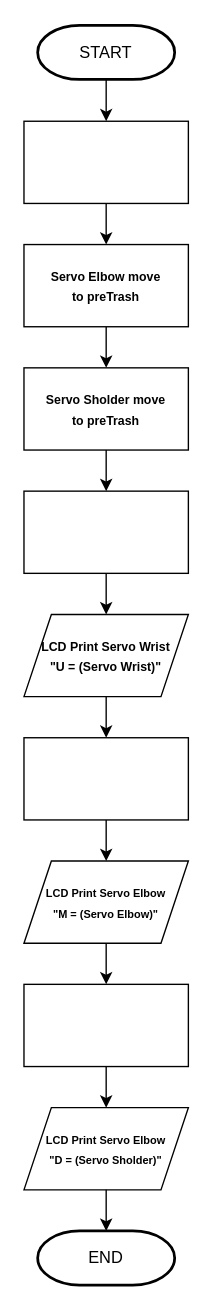
The diagram is 212 pixels wide and 1310 high, and some of its shapes have lost their labels. Each missing label, with the centre of its shape:
"Servo Elbow move to Trash" goes at (x=105, y=778).
"Servo Sholder move to Trash" goes at (x=105, y=1025).
"Servo Wrist move to preTrash" goes at (x=105, y=161).
"Servo Wrist move to Trash" goes at (x=105, y=531).
